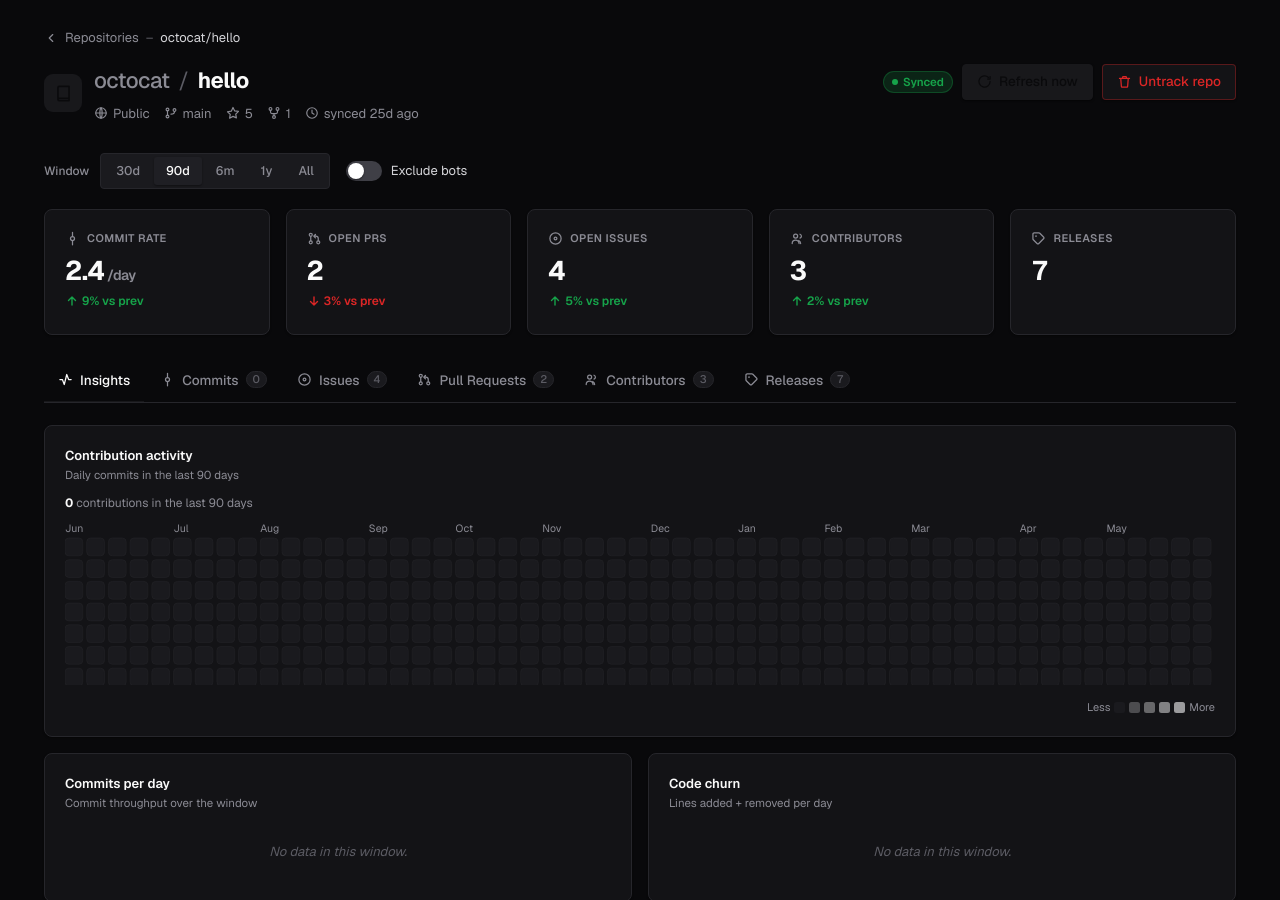
Test: RepoDetail page › contribution activity count + heatmap follow the selected Timing window
Expected: the text "0 contributions in the last 90 days" is shown, [65, 494, 253, 512]
# Switch the Window control to 1y.
Click the tab "1y": (266, 171) [248, 157, 284, 185]
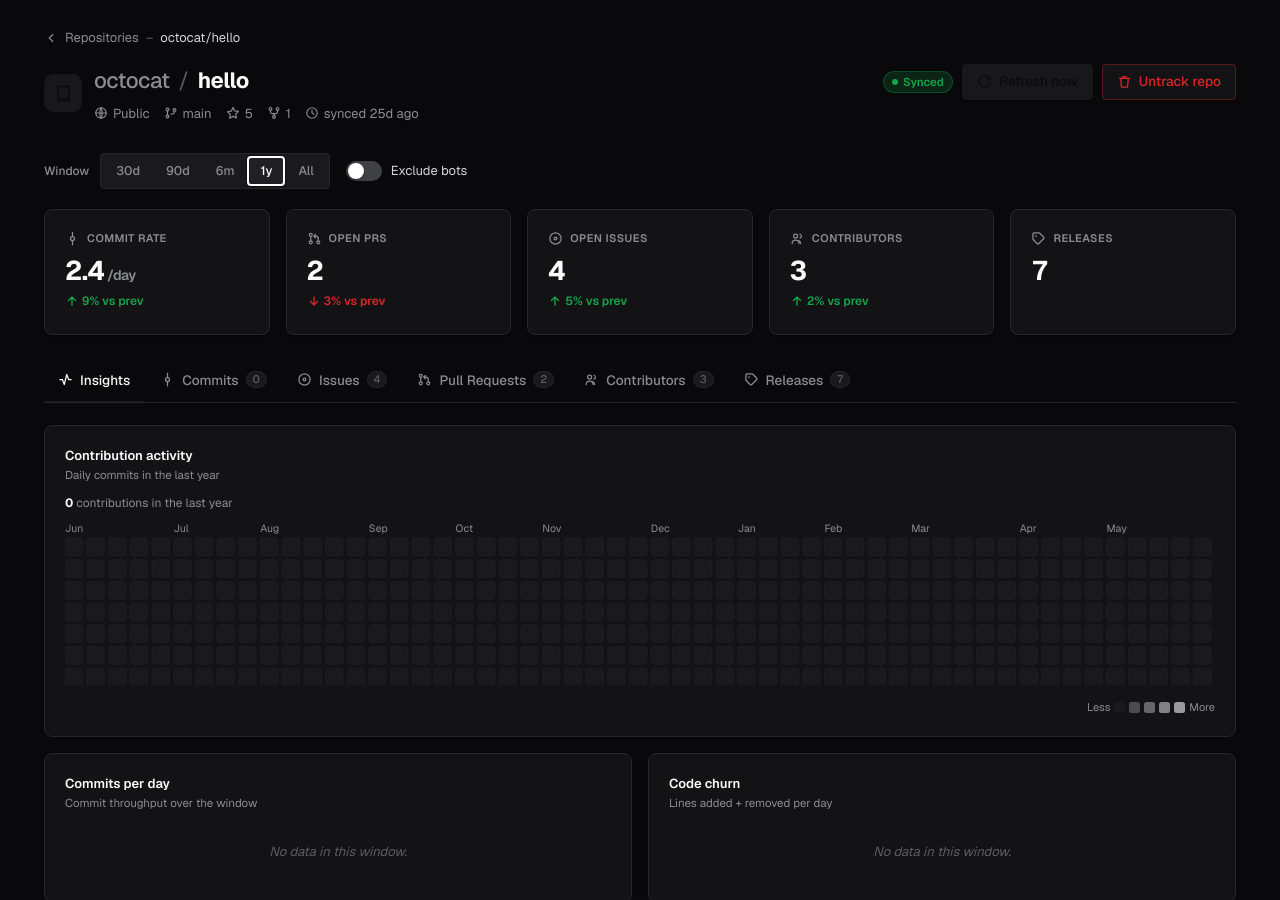
Now the text "0 contributions in the last year" is shown, box [65, 494, 233, 512]
